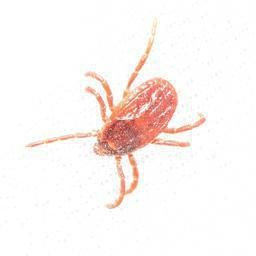Rhipicephalus sanguineus: (25, 15, 206, 212)
